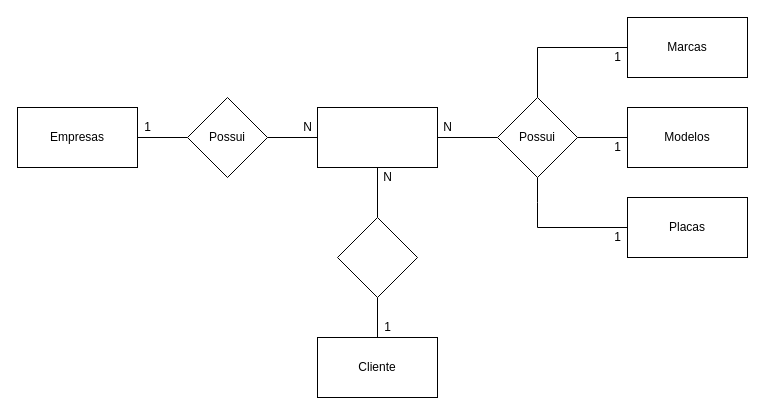
This 765x415 diagram has some shape labels left out. The box of each missing label's shape, as (x1, y1, x2, y2) in pixels:
Aluga: (336, 216, 418, 298)
Veículos: (316, 106, 438, 168)
